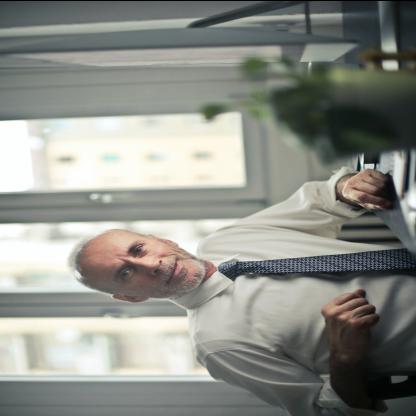Eye: (119, 266, 136, 282), (133, 242, 148, 256)
Mouth: (163, 256, 183, 284)
Nose: (132, 256, 164, 275)
